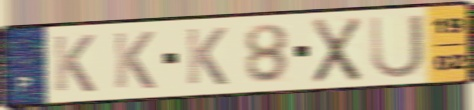8: (241, 22, 293, 85)
K: (111, 29, 158, 91), (51, 33, 98, 94), (184, 26, 230, 87)
U: (367, 12, 427, 81)
X: (309, 15, 364, 86)
